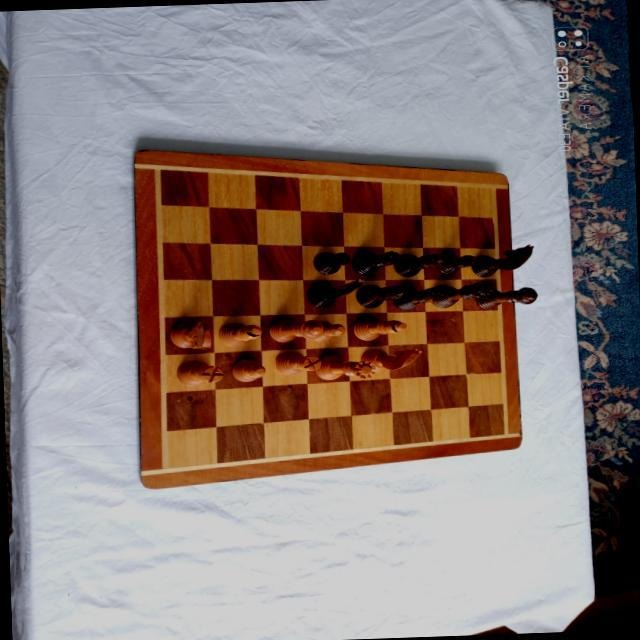black-bishop: (392, 251, 446, 277), (354, 283, 406, 309)
black-king: (475, 283, 537, 309)
black-knight: (470, 244, 533, 278), (306, 278, 363, 309)
black-pawn: (312, 249, 352, 274), (435, 253, 476, 275)
black-queen: (427, 280, 493, 308)
black-rook: (392, 283, 444, 310), (350, 251, 401, 277)
white-bishop: (351, 315, 407, 341), (216, 320, 261, 350)
white-king: (268, 316, 324, 344)
white-knight: (358, 345, 421, 371), (168, 318, 212, 350)
white-pawn: (230, 358, 266, 382), (308, 318, 344, 341)
white-queen: (313, 353, 374, 381)
white-rook: (176, 358, 224, 387), (273, 349, 322, 377)
